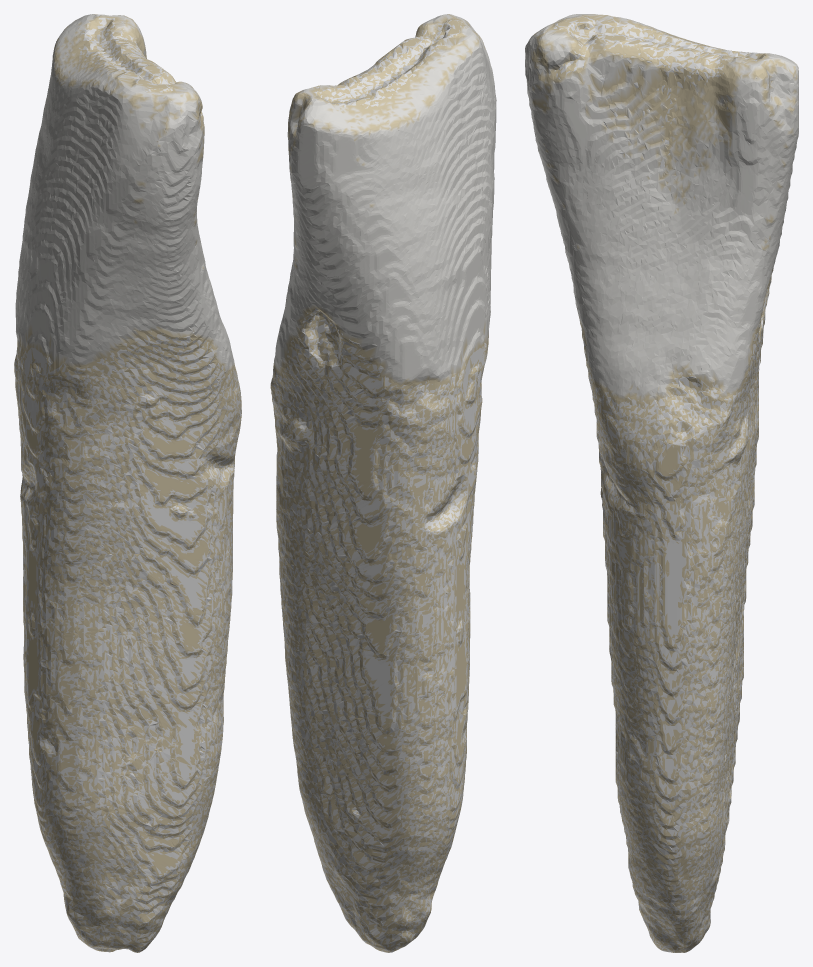
Rendered from scan3.glb.
3 views of the same model, side by side, from view 1: azimuth 30°, elevation 25°; view 2: azimuth 150°, elevation 25°; view 3: azimuth 270°, elevation 25° (orthographic). The views are drawn at different scales.
Visible parts, largest first — view 1: externe, dentine; view 2: externe, dentine; view 3: externe, dentine.
Boxes of the visible parts, box(x1,y1,x2,y2) form: externe: box(14, 14, 241, 952); dentine: box(14, 15, 241, 952); externe: box(270, 14, 496, 952); dentine: box(270, 19, 488, 952); externe: box(525, 14, 798, 952); dentine: box(538, 15, 771, 952).
Bounding box in the file's own units: 0.00436 × 0.0192 × 0.0052.
